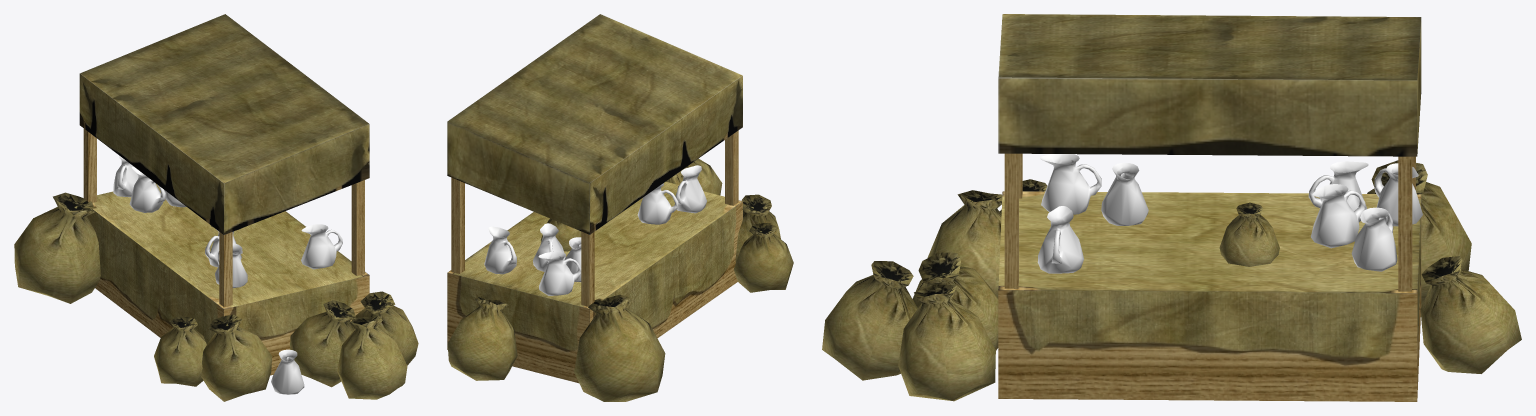
File: store07_2.fbx
3 views of the same model, side by side, from view 1: azimuth 30°, elevation 25°; view 2: azimuth 150°, elevation 25°; view 3: azimuth 270°, elevation 25° (orthographic). The views are drawn at different scales.
Parts seen in each view (by area): view 1: stand_22, bag_185, bag_186, bag_187, bag_191, bag_188, bag_190, pot_60, pot_59, pot_61, pot_64, pot_63 (+1 smaller); view 2: stand_22, bag_185, bag_192, bag_188, pot_64, bag_186, pot_62, pot_63, pot_57, pot_58, bag_187, bag_189 (+1 smaller); view 3: stand_22, bag_190, bag_192, bag_187, bag_186, bag_185, bag_191, bag_189, pot_58, pot_63, pot_62, pot_60 (+3 smaller).
Part boxes in pixels (box(x1,y1,x2,y2)): stand_22: box(79, 14, 369, 375); bag_185: box(14, 192, 100, 303); bag_186: box(201, 314, 272, 401); bag_187: box(337, 316, 407, 399); bag_191: box(289, 300, 356, 387); bag_188: box(154, 316, 206, 386); bag_190: box(352, 291, 418, 365); pot_60: box(301, 224, 342, 269); pot_59: box(271, 349, 304, 394); pot_61: box(129, 166, 165, 212); pot_64: box(113, 156, 138, 197); pot_63: box(215, 243, 247, 288); stand_22: box(447, 14, 742, 383); bag_185: box(574, 294, 665, 401); bag_192: box(447, 297, 517, 380); bag_188: box(733, 223, 793, 292); pot_64: box(538, 251, 581, 295); bag_186: box(735, 194, 780, 261); pot_62: box(484, 226, 516, 274); pot_63: box(675, 165, 706, 213); pot_57: box(637, 183, 678, 224); pot_58: box(533, 223, 565, 271); bag_187: box(683, 158, 722, 195); bag_189: box(540, 218, 581, 251); stand_22: box(998, 14, 1421, 401); bag_190: box(898, 284, 995, 401); bag_192: box(1420, 256, 1521, 373); bag_187: box(822, 261, 917, 380); bag_186: box(927, 190, 1002, 297); bag_185: box(1367, 160, 1471, 306); bag_191: box(912, 252, 998, 350); bag_189: box(1219, 202, 1279, 266); pot_58: box(1311, 184, 1365, 248); pot_63: box(1040, 154, 1101, 214); pot_62: box(1351, 207, 1397, 271); pot_60: box(1037, 206, 1083, 273).
Bounding box in the file's own units: 58.6 × 58.02 × 110.
